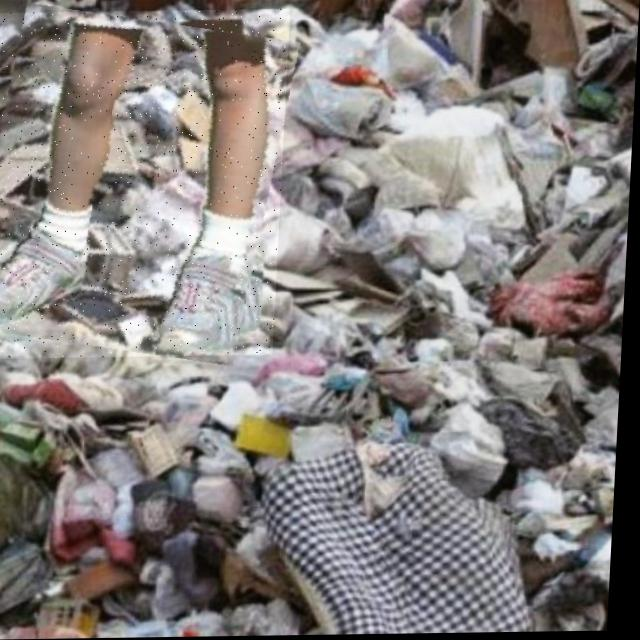Person in Rubble: (0, 10, 290, 359)
